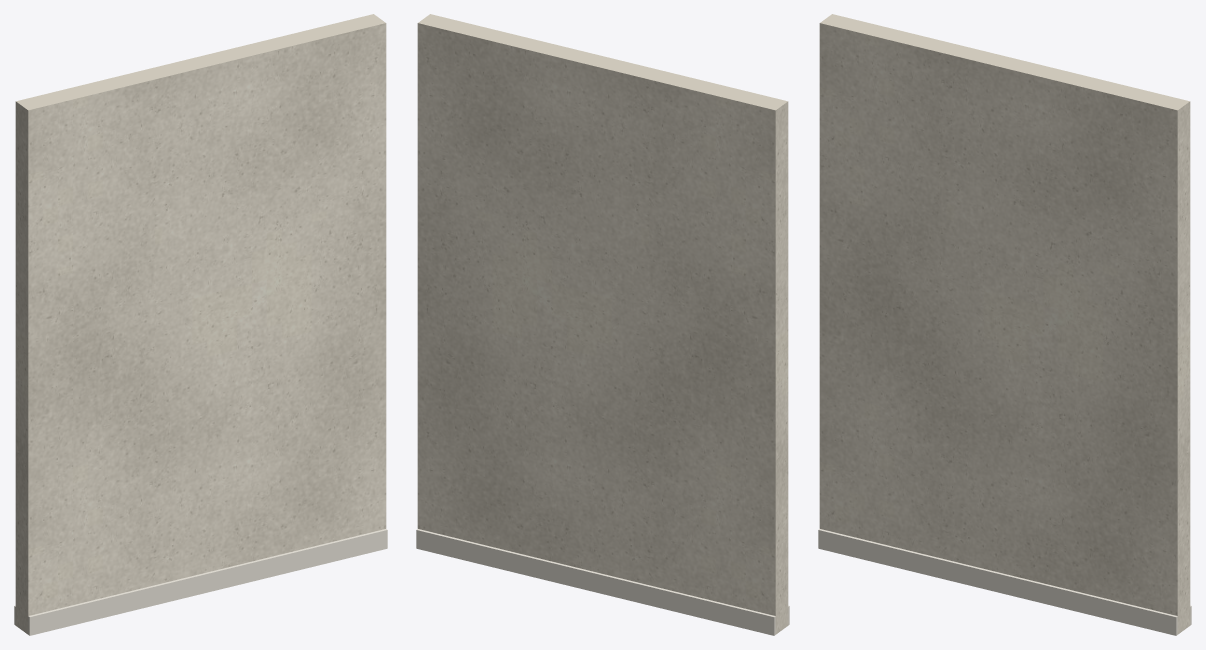
File: interior_wall_plain.glb
3 renders of one model, left to right at view 1: azimuth 30°, elevation 25°; view 2: azimuth 150°, elevation 25°; view 3: azimuth 330°, elevation 25°, orthographic.
Visible parts, largest first — view 1: interior_wall_plain_plaster, interior_wall_plain_trim; view 2: interior_wall_plain_plaster, interior_wall_plain_trim; view 3: interior_wall_plain_plaster, interior_wall_plain_trim.
Part boxes in pixels (bbox=[...]): interior_wall_plain_plaster: bbox=[15, 14, 386, 634]; interior_wall_plain_trim: bbox=[14, 529, 387, 635]; interior_wall_plain_plaster: bbox=[417, 14, 788, 634]; interior_wall_plain_trim: bbox=[416, 529, 789, 635]; interior_wall_plain_plaster: bbox=[819, 14, 1190, 634]; interior_wall_plain_trim: bbox=[818, 529, 1191, 635].
Size of the model in its own units: 2 by 2.8 by 0.15.
2 materials, 1 textured.
